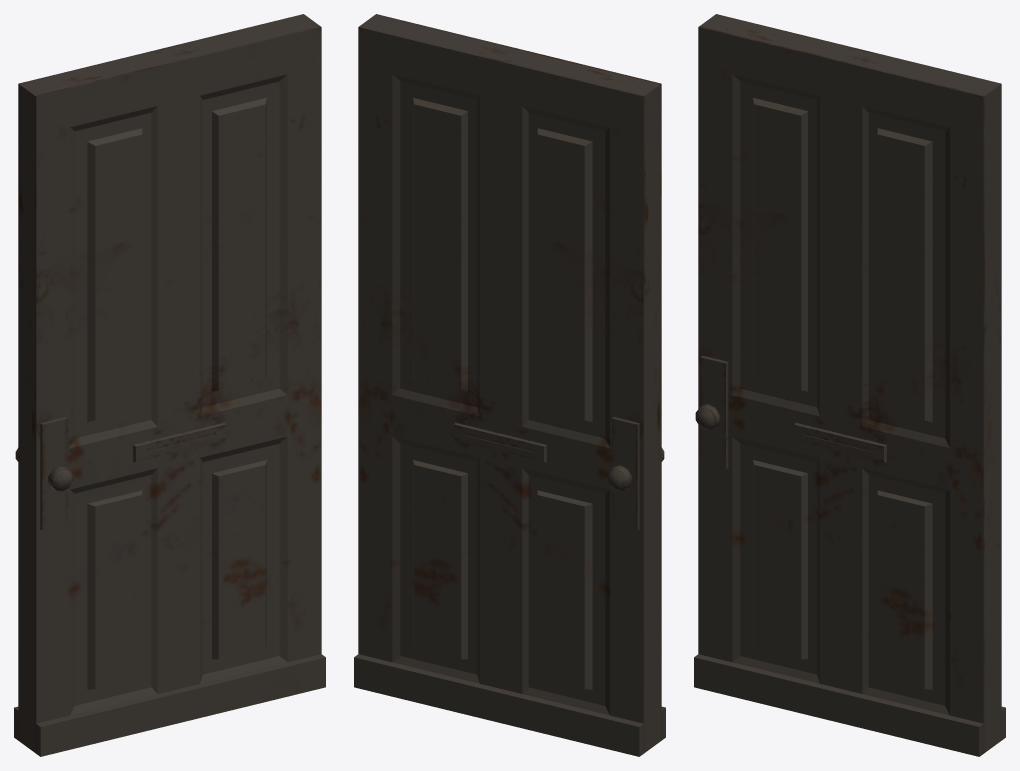
The model's file is door_1.glb.
3 views of the same model, side by side, from view 1: azimuth 30°, elevation 25°; view 2: azimuth 150°, elevation 25°; view 3: azimuth 330°, elevation 25° (orthographic).
Parts seen in each view (by area): view 1: Door_1; view 2: Door_1; view 3: Door_1.
Part boxes in pixels (bbox=[...]): Door_1: bbox=[14, 14, 325, 756]; Door_1: bbox=[354, 14, 665, 756]; Door_1: bbox=[694, 14, 1005, 756].
Size of the model in its own units: 1 by 2.2 by 0.2599.
1 material, 1 textured.
